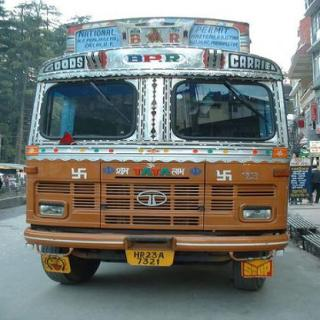Normal_vehicle: (21, 14, 298, 296)
